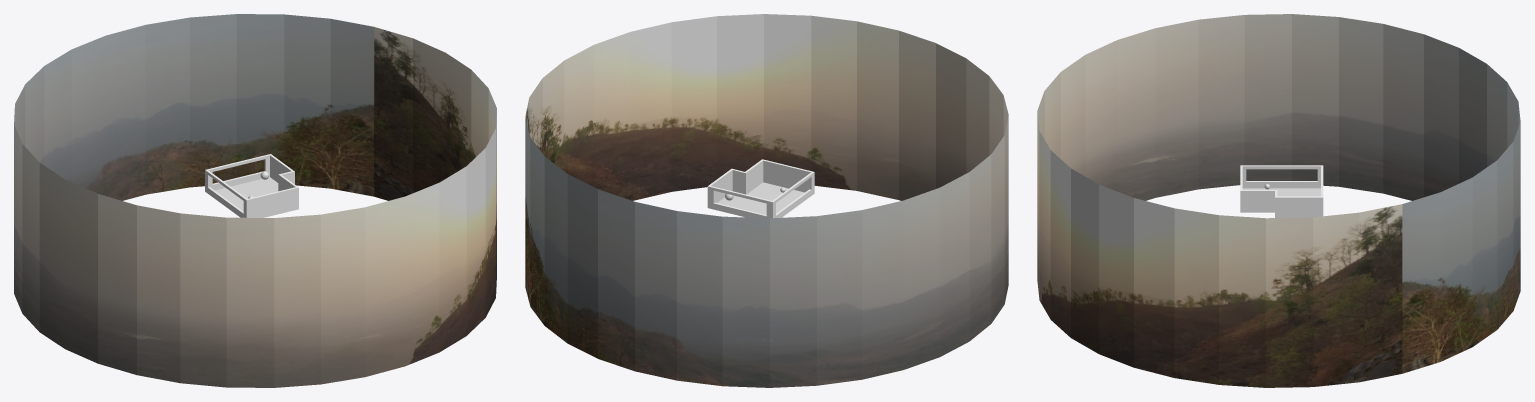
File: flat.glb
3 views of the same model, side by side, from view 1: azimuth 30°, elevation 25°; view 2: azimuth 150°, elevation 25°; view 3: azimuth 270°, elevation 25° (orthographic).
Parts seen in each view (by area): view 1: Cylinder, Room, Plane; view 2: Cylinder, Room, Plane; view 3: Cylinder, Room, Plane.
Part boxes in pixels (box(x1,y1,x2,y2)): Cylinder: box(14, 14, 496, 387); Room: box(205, 154, 298, 217); Plane: box(215, 177, 278, 211); Cylinder: box(525, 14, 1008, 387); Room: box(707, 159, 814, 218); Plane: box(717, 182, 804, 214); Cylinder: box(1037, 14, 1520, 387); Room: box(1240, 165, 1323, 217); Plane: box(1242, 188, 1320, 196).
Size of the model in its own units: 48.32 by 18.73 by 48.32.
2 materials, 1 textured.
